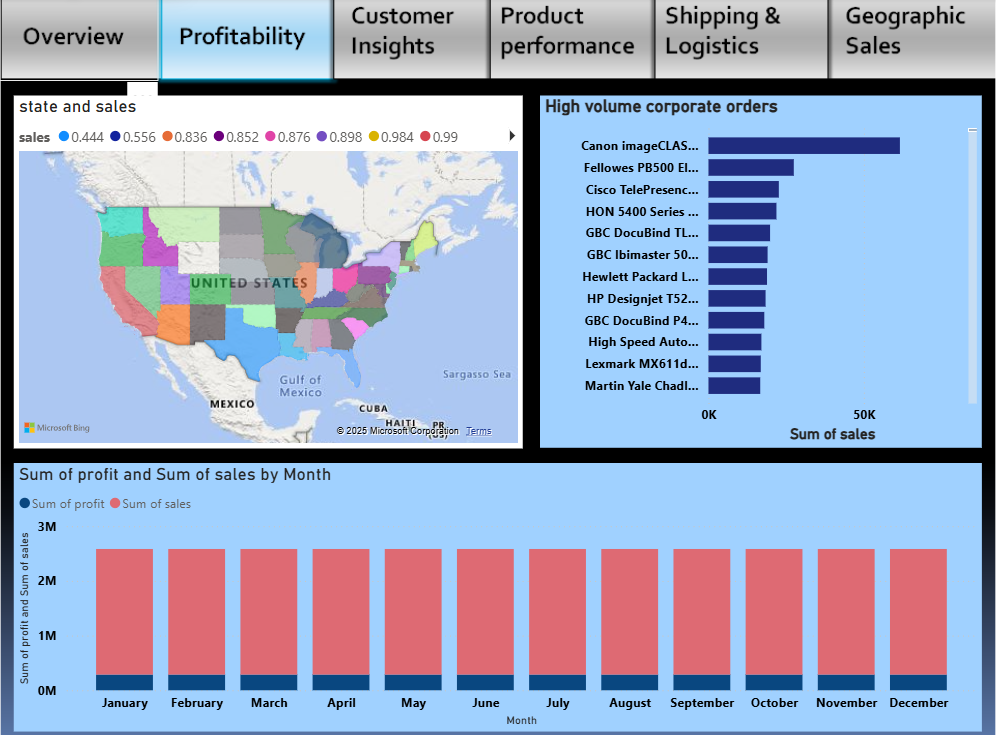

The page's visual inventory and layout, read from the dashboard file:
{"tool":"powerbi","page":{"name":"Profitability","canvas":[1280,720],"ordinal":1},"visuals":[{"type":"actionButton","box":[156.4,0,156.4,79.6],"z":0},{"type":"actionButton","box":[485.8,0,140,79.6],"z":1000},{"type":"actionButton","box":[625.7,0,168.8,79.6],"z":2000},{"type":"actionButton","box":[794.5,0,168.8,79.6],"z":3000},{"type":"actionButton","box":[952.3,0,168.8,79.6],"z":4000},{"type":"actionButton","box":[955.1,0,170.2,79.6],"z":5000},{"type":"columnChart","fields":{"Category":["DateTable.Date.Variation.Date Hierarchy.Month"],"Y":["Sum(Superstore.profit)","Sum(Superstore.sales)"]},"box":[172.9,448.7,934.5,259.3],"z":6000},{"type":"barChart","title":"High volume corporate orders","fields":{"Y":["Sum(Superstore.sales)"],"Category":["Superstore.product_name"]},"box":[680.6,94.7,426.8,340.3],"z":7000},{"type":"filledMap","fields":{"Category":["Superstore.state"],"Series":["Superstore.sales"]},"box":[172.9,94.7,491.3,340.3],"z":8000}]}

Visuals, with their boxes on the page's 1280x720 design canvas (x1, y1, x2, y2). These are canvas units, not pixel positions in the 996x735 screenshot, which may show the page scaled, cropped or inside an application window:
actionButton: bbox=(156, 0, 313, 80)
actionButton: bbox=(486, 0, 626, 80)
actionButton: bbox=(626, 0, 794, 80)
actionButton: bbox=(794, 0, 963, 80)
actionButton: bbox=(952, 0, 1121, 80)
actionButton: bbox=(955, 0, 1125, 80)
columnChart - DateTable.Date.Variation.Date Hierarchy.Month x Sum(Superstore.profit): bbox=(173, 449, 1107, 708)
"High volume corporate orders" barChart: bbox=(681, 95, 1107, 435)
filledMap - Superstore.state x Superstore.sales: bbox=(173, 95, 664, 435)
